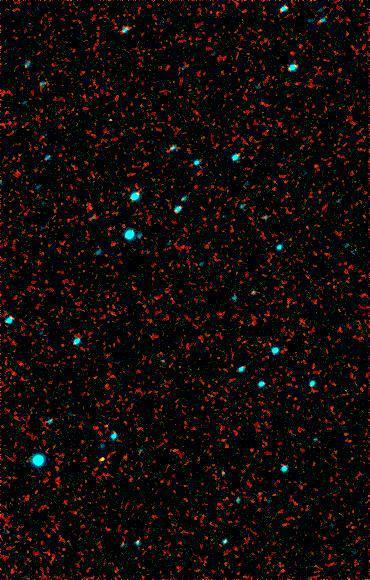star: (89, 446, 119, 476)
